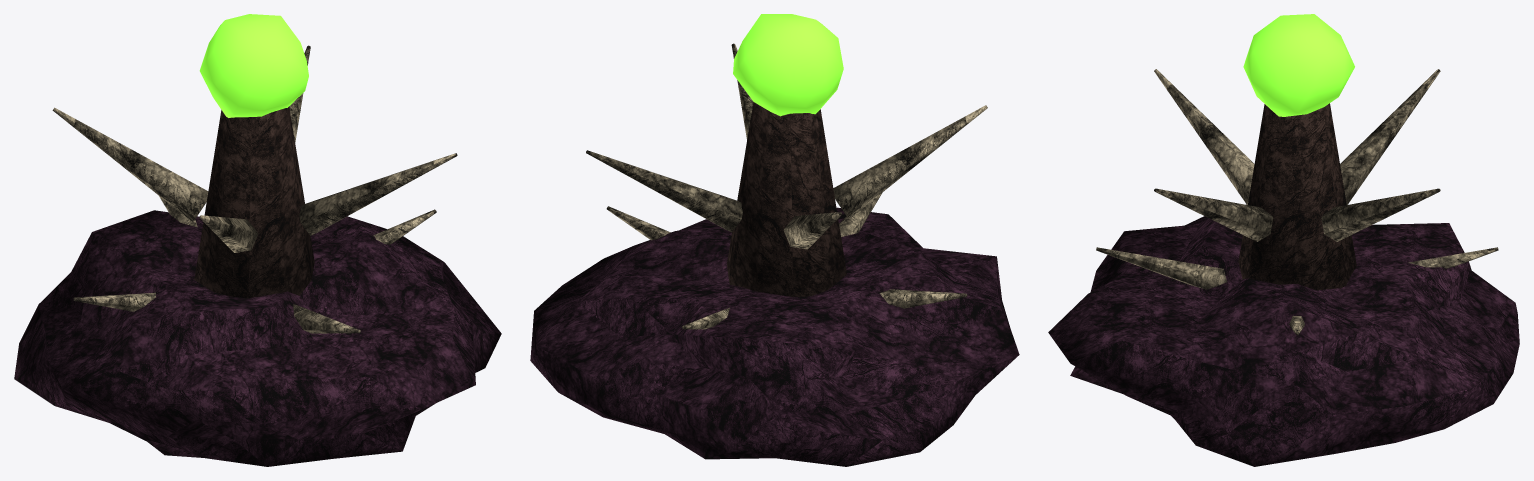
The model's file is bug_tower.glb.
3 views of the same model, side by side, from view 1: azimuth 30°, elevation 25°; view 2: azimuth 150°, elevation 25°; view 3: azimuth 270°, elevation 25° (orthographic). The views are drawn at different scales.
Visible parts, largest first — view 1: base, trunk, coreorb, thorn3, thorn7, thorn5, thorn6, thorn4, thorn0; view 2: base, trunk, coreorb, thorn5, thorn1, thorn3, thorn4, thorn0, thorn6; view 3: base, trunk, coreorb, thorn3, thorn5, thorn7, thorn1, thorn6, thorn2.
Boxes of the visible parts, x1,y1,x2,y2 form: base: (14, 210, 501, 466); trunk: (194, 107, 314, 298); coreorb: (199, 14, 308, 117); thorn3: (52, 107, 208, 222); thorn7: (299, 153, 457, 235); thorn5: (199, 215, 258, 252); thorn6: (293, 304, 360, 333); thorn4: (73, 292, 155, 311); thorn0: (373, 209, 436, 244); base: (530, 207, 1019, 466); trunk: (727, 102, 846, 296); coreorb: (733, 14, 843, 116); thorn5: (833, 105, 987, 218); thorn1: (586, 150, 742, 232); thorn3: (783, 212, 841, 249); thorn4: (879, 289, 967, 308); thorn0: (606, 206, 670, 240); thorn6: (839, 193, 881, 236); base: (1048, 204, 1519, 466); trunk: (1238, 103, 1356, 290); coreorb: (1243, 14, 1354, 116); thorn3: (1340, 69, 1440, 204); thorn5: (1154, 69, 1254, 204); thorn7: (1154, 188, 1273, 241); thorn1: (1321, 188, 1440, 241); thorn6: (1096, 247, 1226, 289); thorn2: (1408, 247, 1498, 268).
Bounding box in the file's own units: 111 × 85.61 × 108.
Materials: 4 (3 with a texture image).
